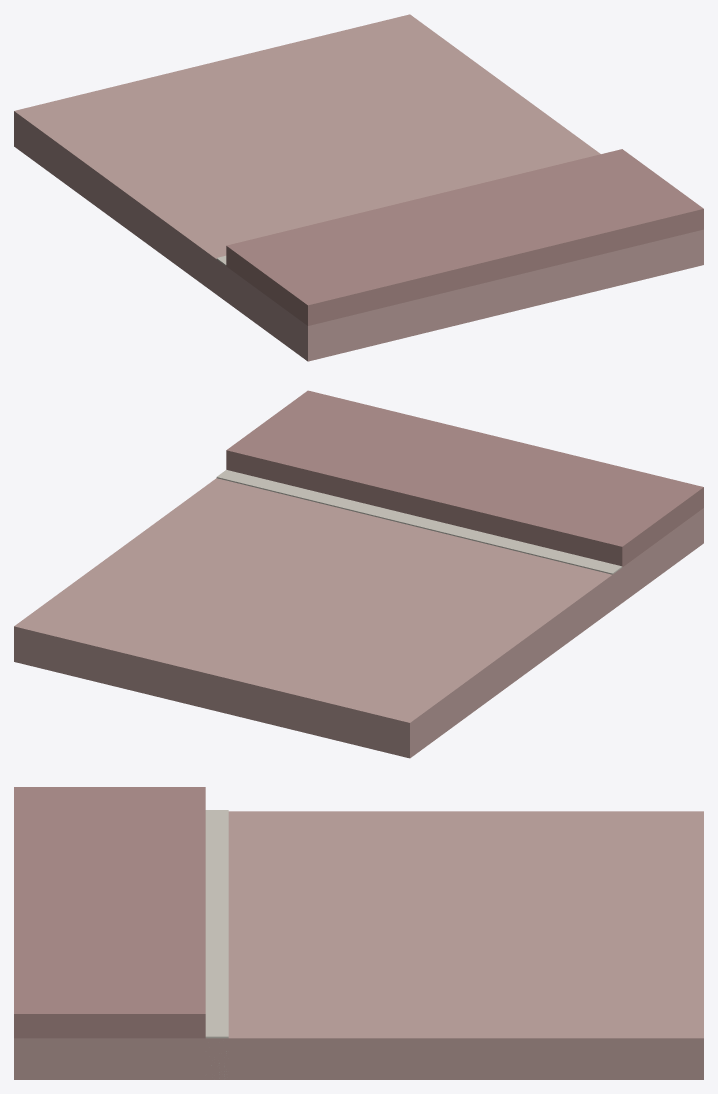
File: textil_manta_quarto.glb
3 renders of one model, top to bottom at view 1: azimuth 30°, elevation 25°; view 2: azimuth 150°, elevation 25°; view 3: azimuth 270°, elevation 25°, orthographic. The views are drawn at different scales.
Visible parts, largest first — view 1: TEXTIL_MANTA_QUARTO_v01; view 2: TEXTIL_MANTA_QUARTO_v01; view 3: TEXTIL_MANTA_QUARTO_v01.
Part boxes in pixels (left/top/right/bottom): TEXTIL_MANTA_QUARTO_v01: left=14, top=14, right=703, bottom=361; TEXTIL_MANTA_QUARTO_v01: left=14, top=390, right=703, bottom=758; TEXTIL_MANTA_QUARTO_v01: left=14, top=787, right=703, bottom=1079.
Bounding box in the file's own units: 0.7 × 0.095 × 0.9.
